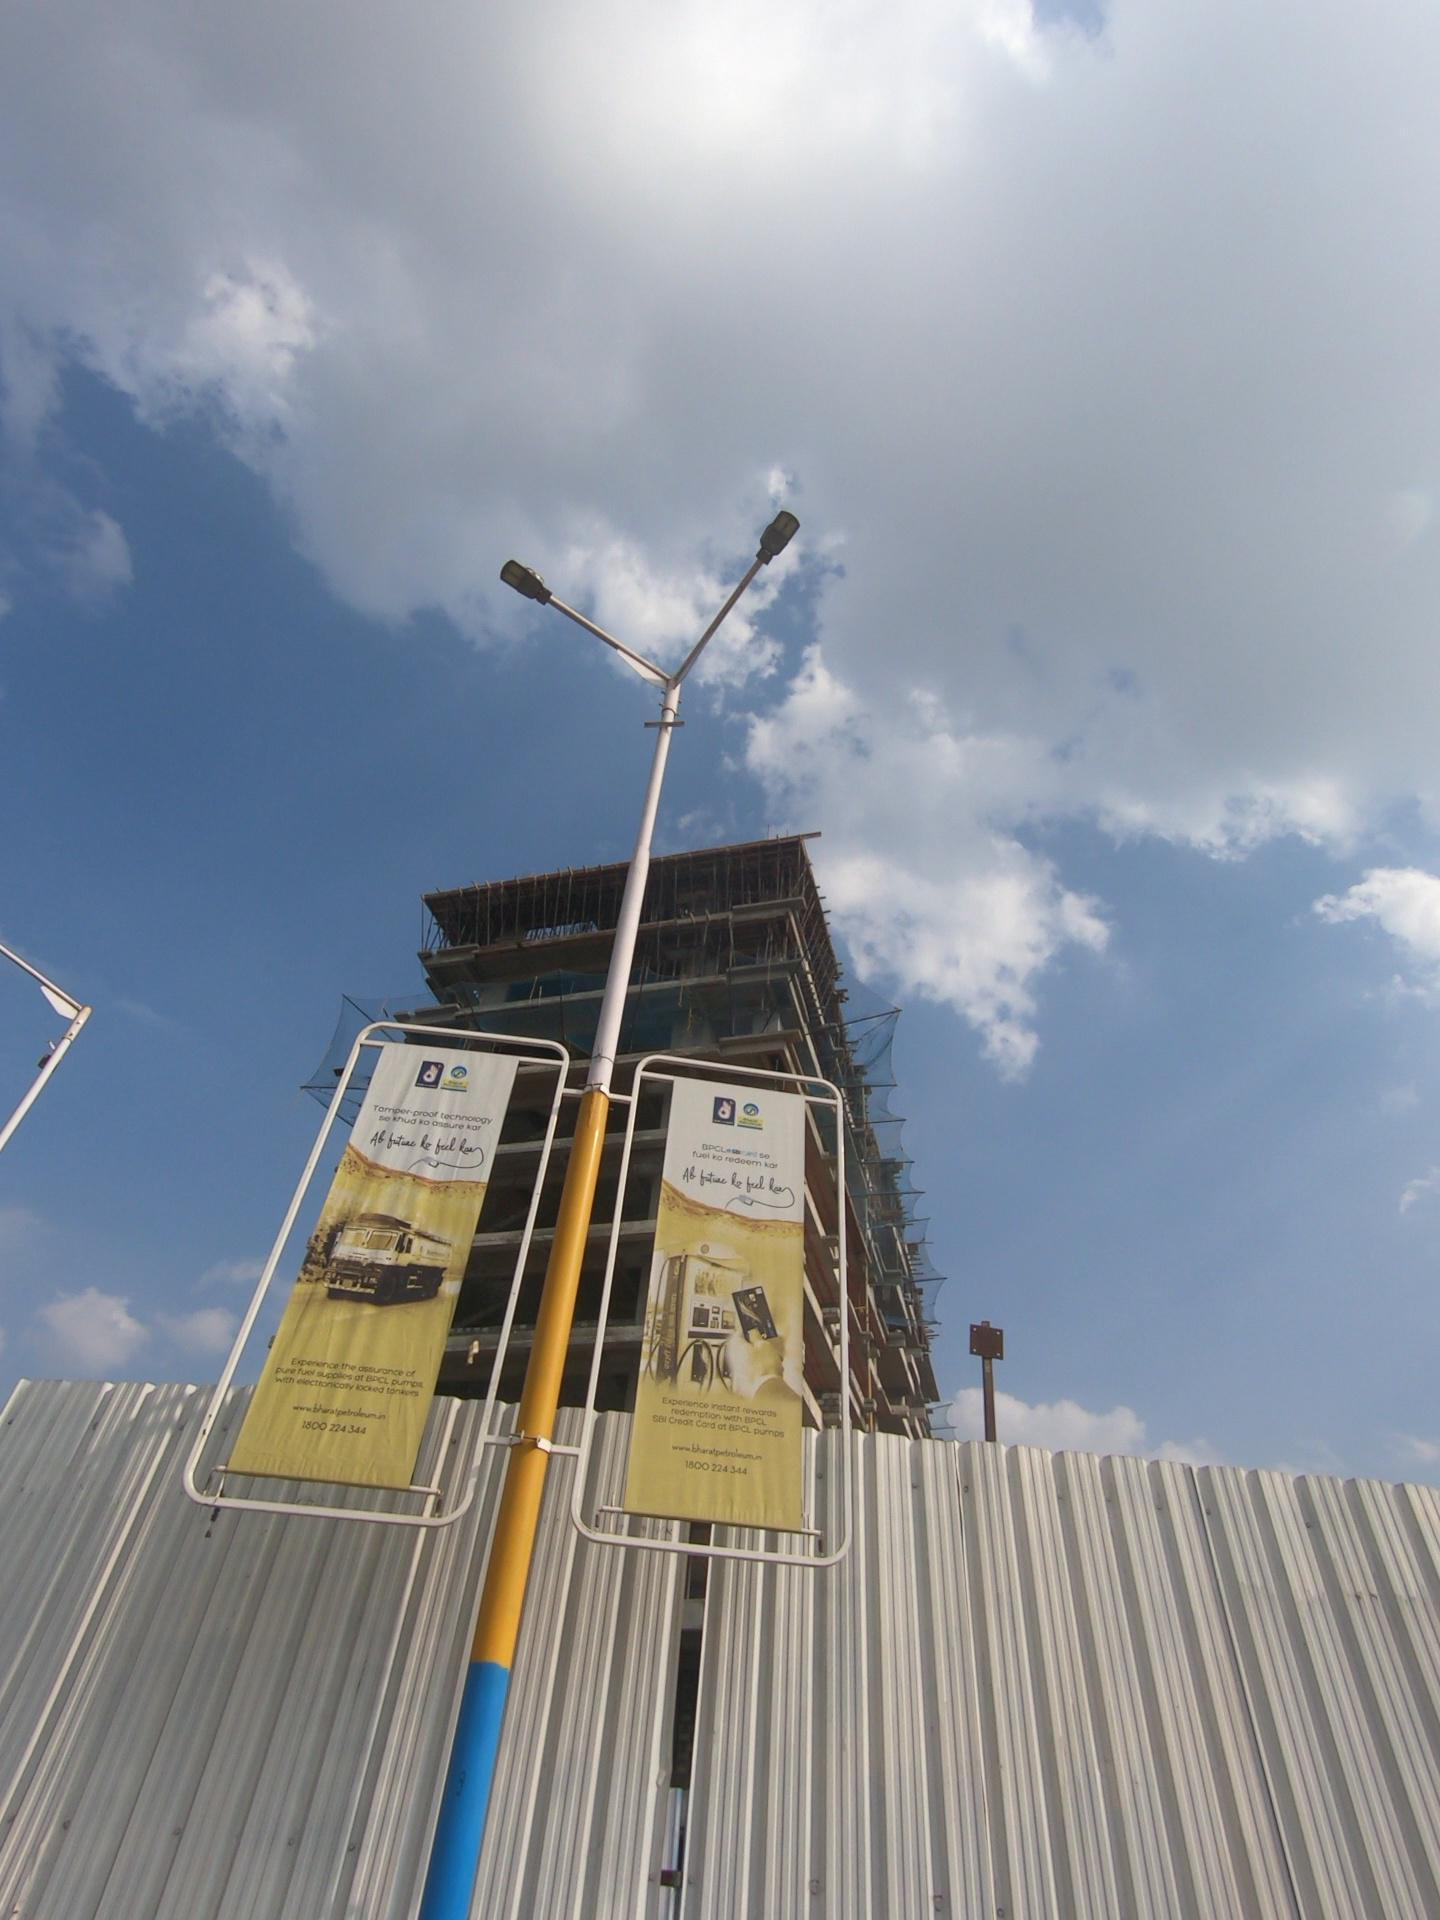off: (490, 457, 876, 683)
